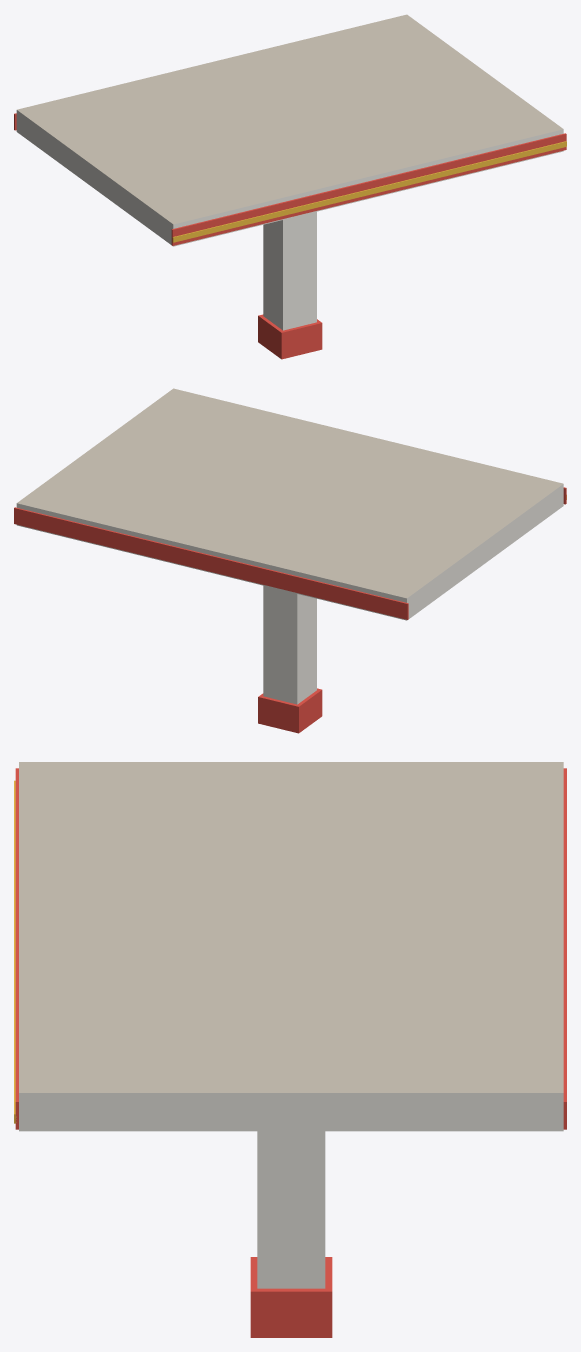
File: P_GasCanopy.fbx
3 renders of one model, top to bottom at view 1: azimuth 30°, elevation 25°; view 2: azimuth 150°, elevation 25°; view 3: azimuth 270°, elevation 25°, orthographic. The views are drawn at different scales.
Visible parts, largest first — view 1: P_GasCanopy; view 2: P_GasCanopy; view 3: P_GasCanopy.
Boxes of the visible parts, box(x1,y1,x2,y2) form: P_GasCanopy: box(14, 14, 566, 359); P_GasCanopy: box(14, 388, 566, 733); P_GasCanopy: box(14, 762, 566, 1337).
Bounding box in the file's own units: 4.64 × 2.55 × 3.25.
